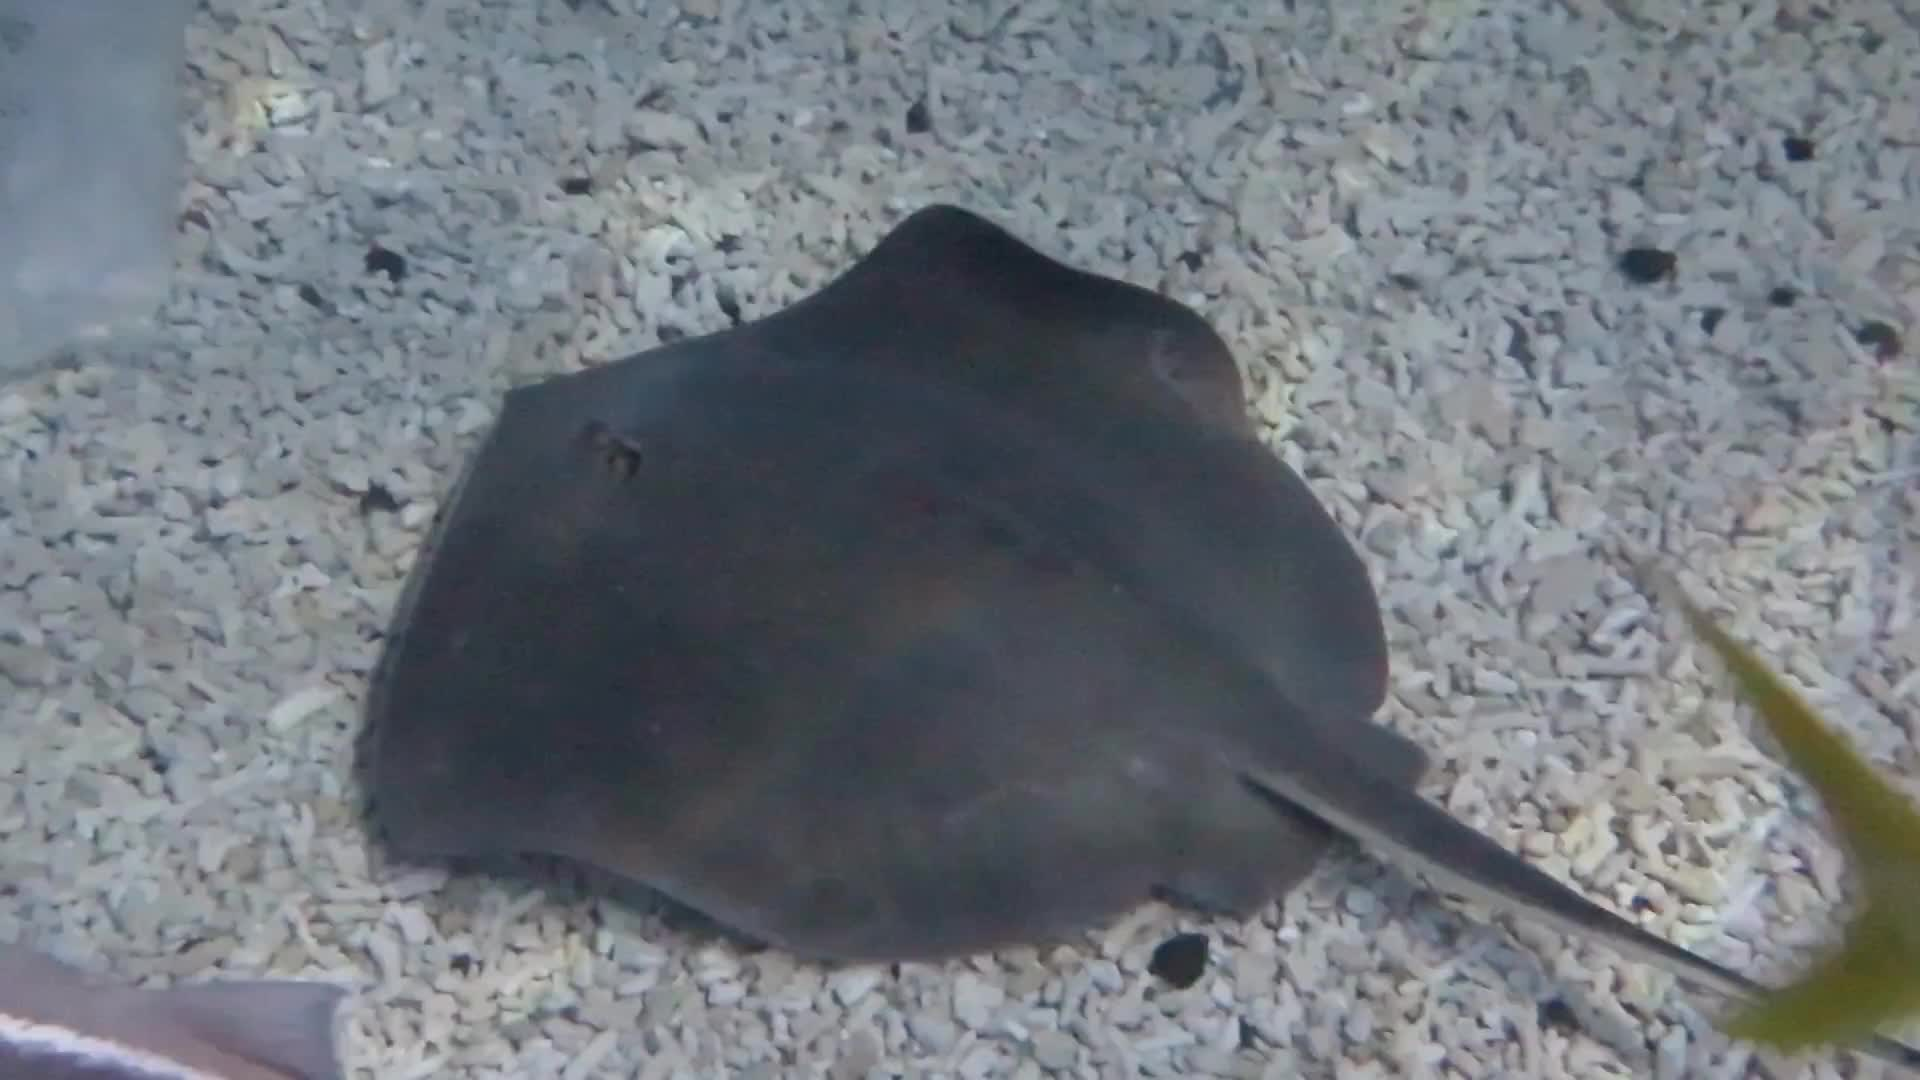Dasyatis bennetti: (258, 182, 1713, 1015)
